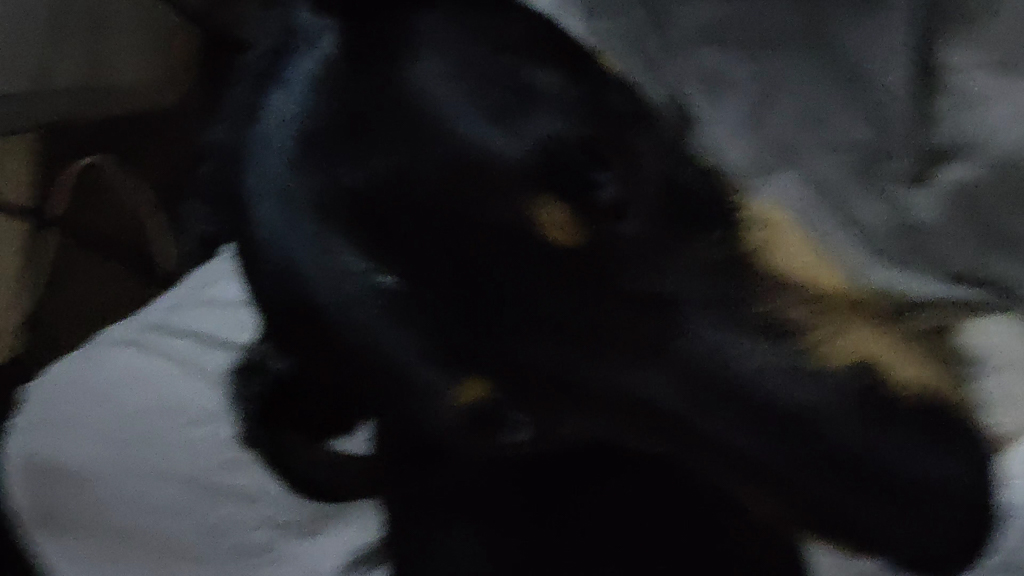Dog: (172, 0, 1012, 576)
